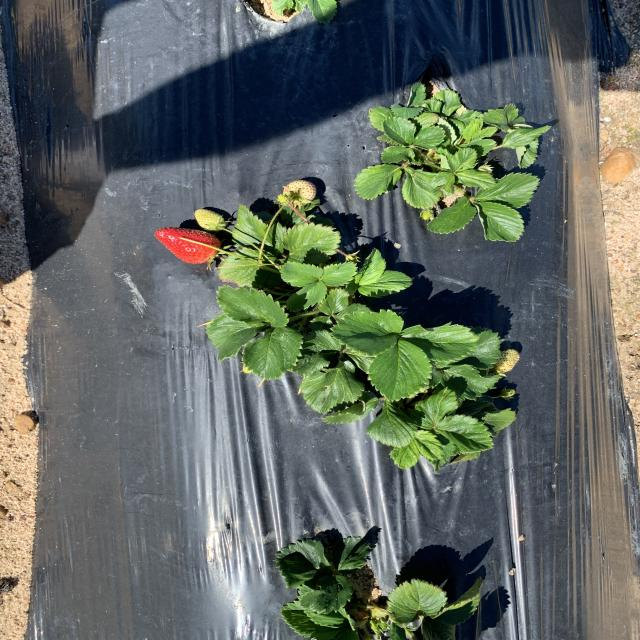unripe: (151, 227, 224, 265)
